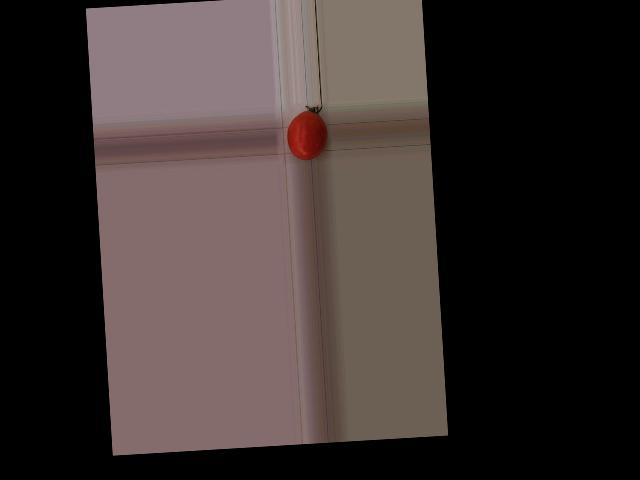tomato: (285, 109, 328, 161)
